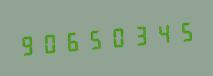five: (83, 22, 104, 56), (171, 14, 192, 48)
four: (149, 16, 170, 50)
nine: (17, 27, 38, 61)
six: (61, 24, 82, 58)
three: (127, 18, 148, 52)
zero: (39, 25, 60, 59), (105, 20, 126, 54)
